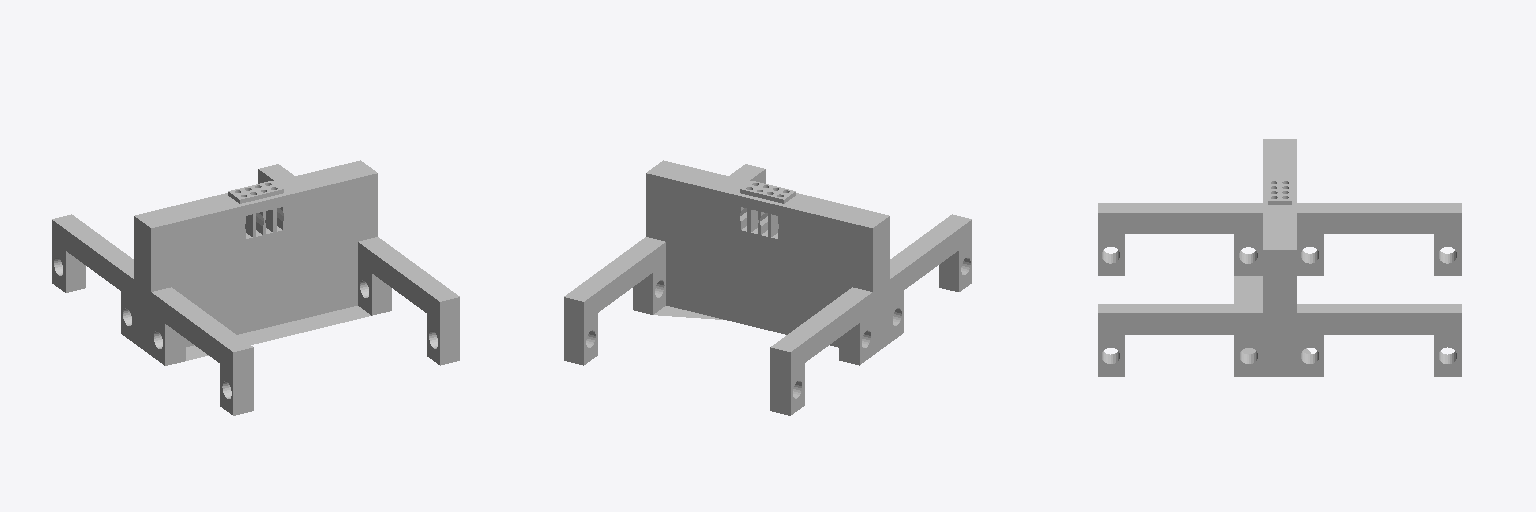
Rendered from celda braille.obj.
The picture shows the model from 3 angles: view 1: azimuth 30°, elevation 25°; view 2: azimuth 150°, elevation 25°; view 3: azimuth 270°, elevation 25°; orthographic projection.
Parts seen in each view (by area): view 1: Mesh1 Model; view 2: Mesh1 Model; view 3: Mesh1 Model.
Part boxes in pixels (x1,y1,x2,y2): Mesh1 Model: (52,160,459,415); Mesh1 Model: (564,160,971,415); Mesh1 Model: (1098,139,1461,376).
Bounding box in the file's own units: 55.87 × 31 × 77.53.